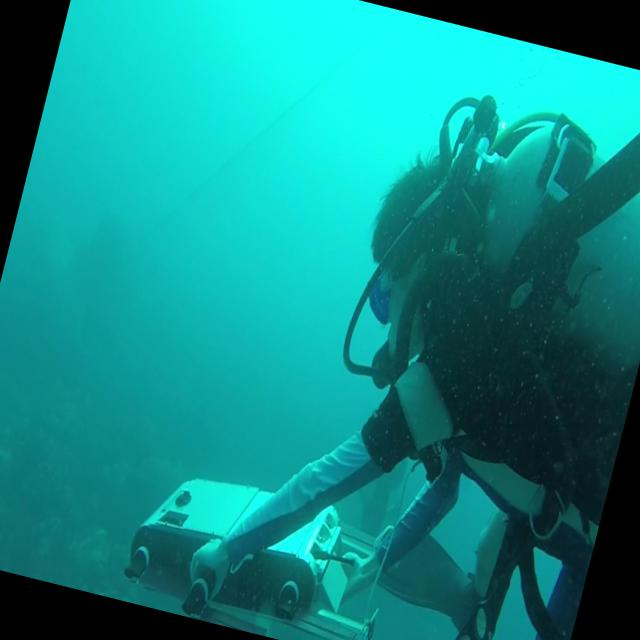human: (175, 45, 640, 640)
